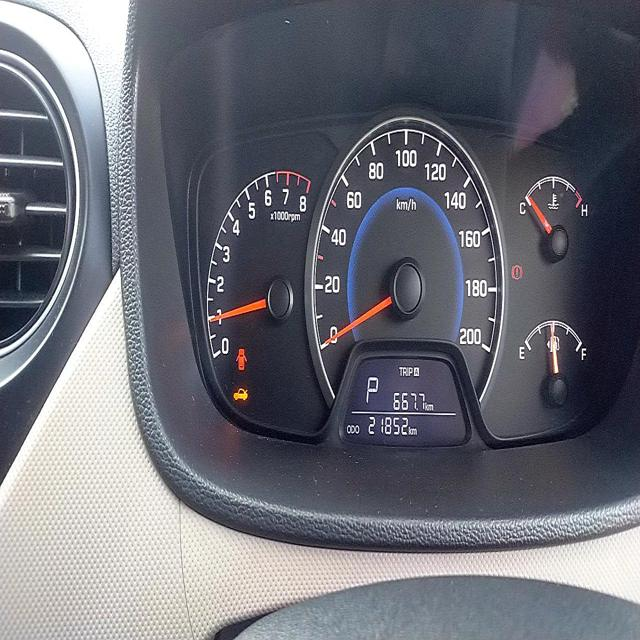odometer: (367, 408, 410, 440)
